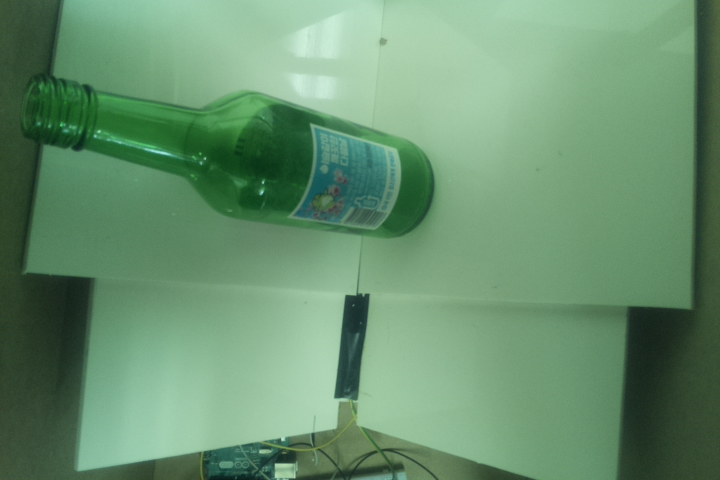soju: (22, 72, 436, 241)
